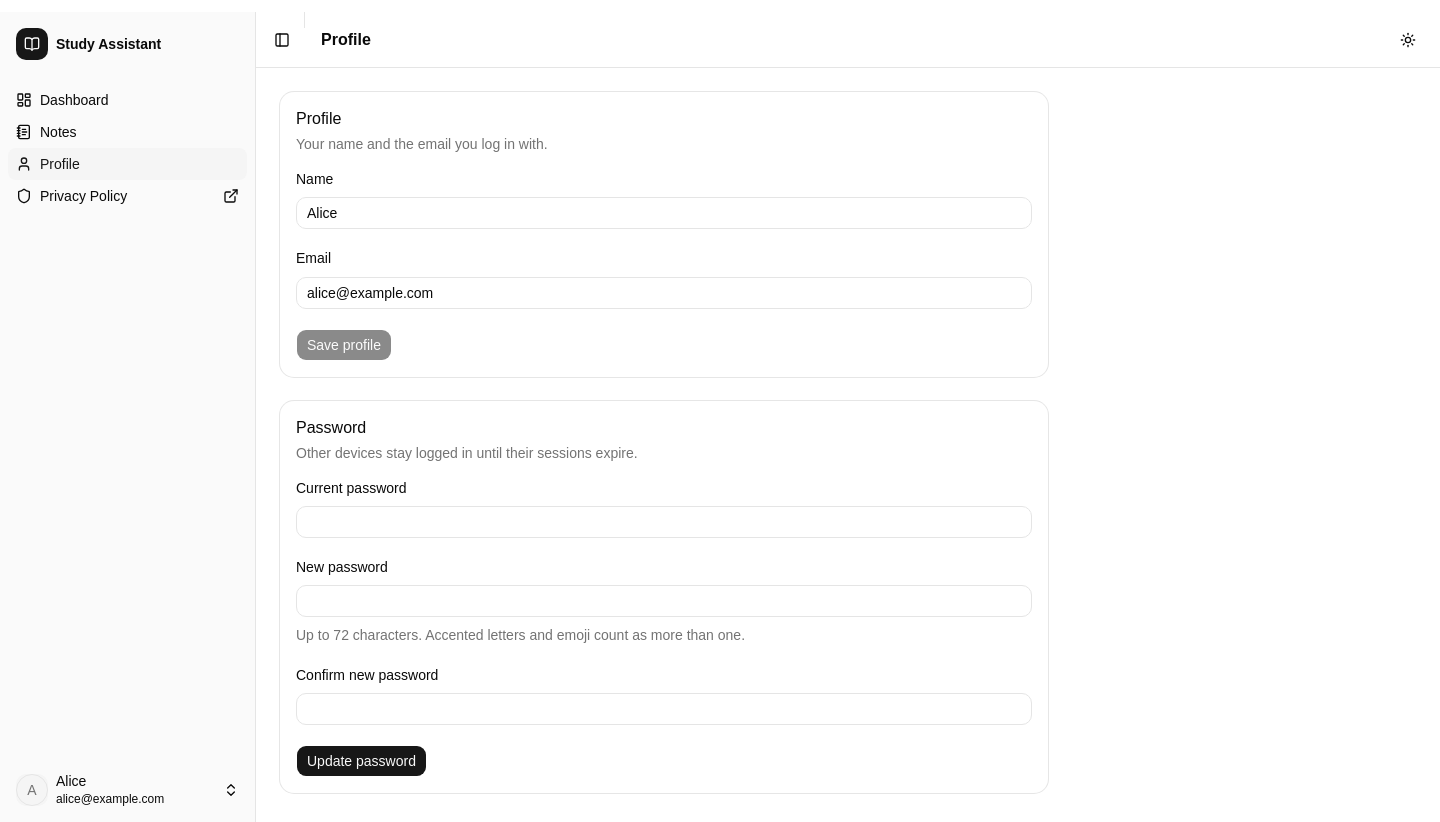
Scenario: profile page › updates the name and refreshes the sidebar from the response
This screenshot has width=1440, height=822.
Replace the text in the field labelled "Name" with "Alice Liddell" at (664, 213), box left=296, top=197, right=1032, bottom=229
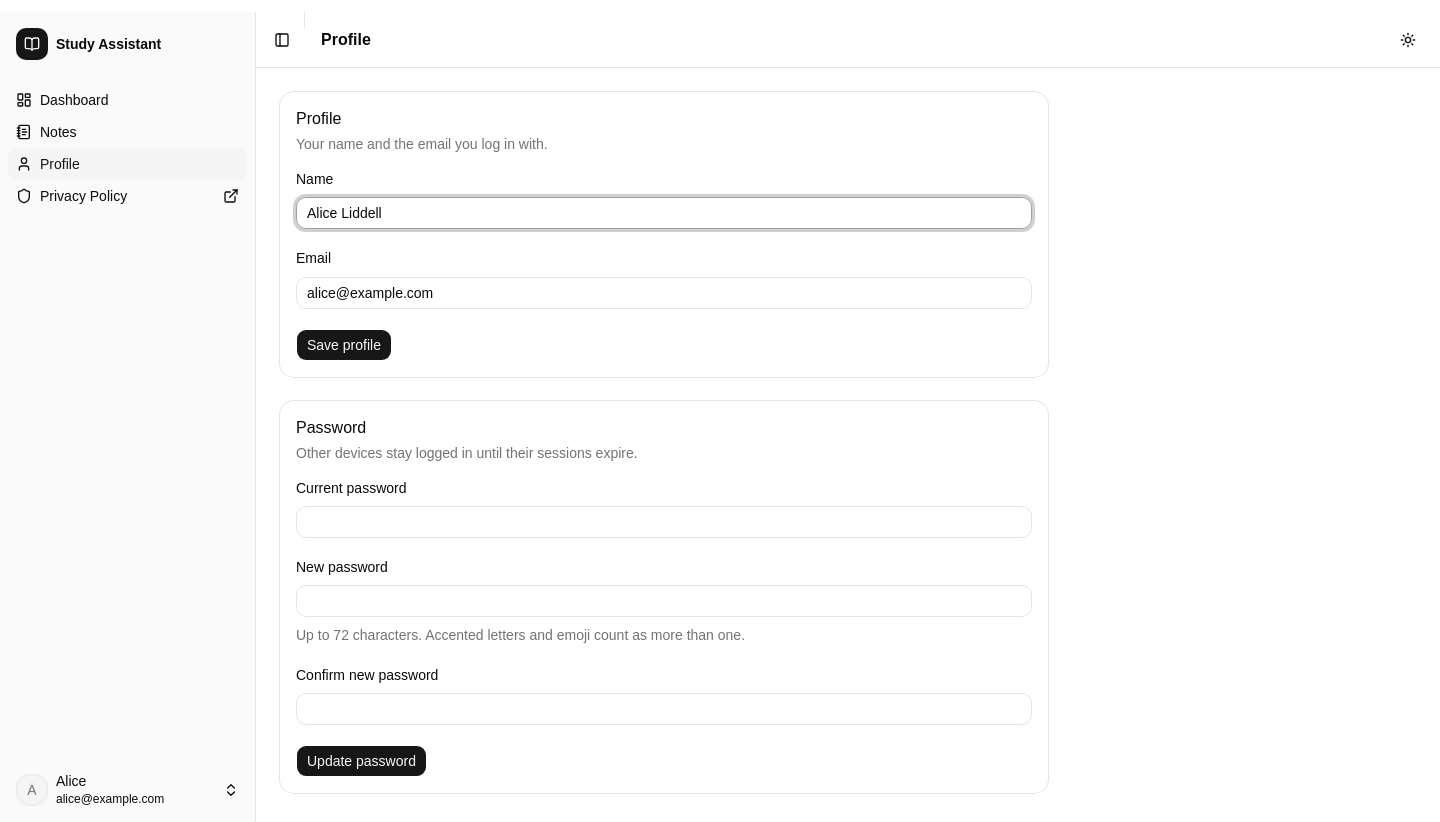
Click the button "Save profile" at (344, 344), box left=296, top=328, right=392, bottom=360
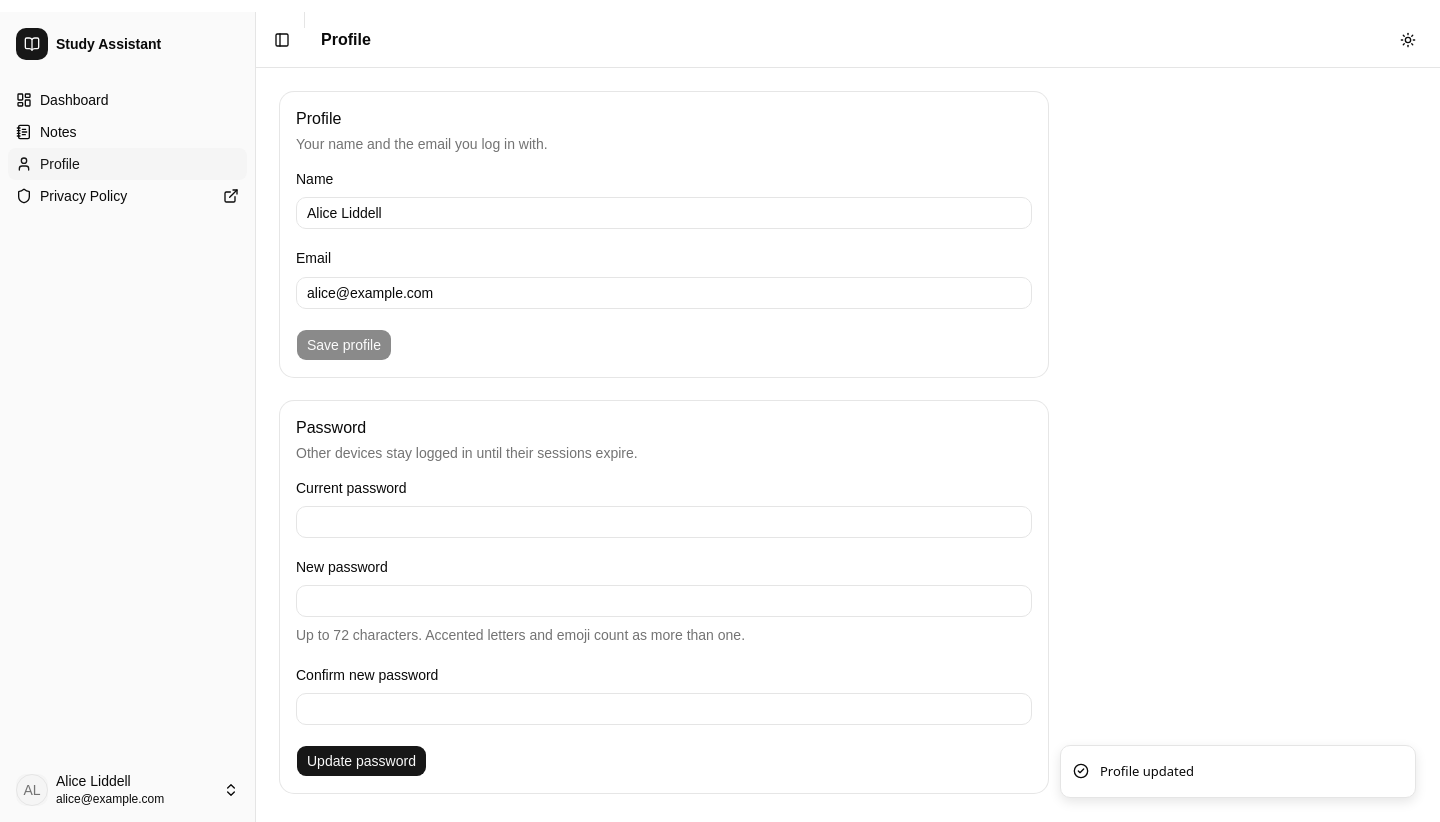
Check: the text "Profile updated" is shown, box left=1100, top=762, right=1194, bottom=781
Check: the text "Alice Liddell" is shown, box left=56, top=773, right=131, bottom=789
